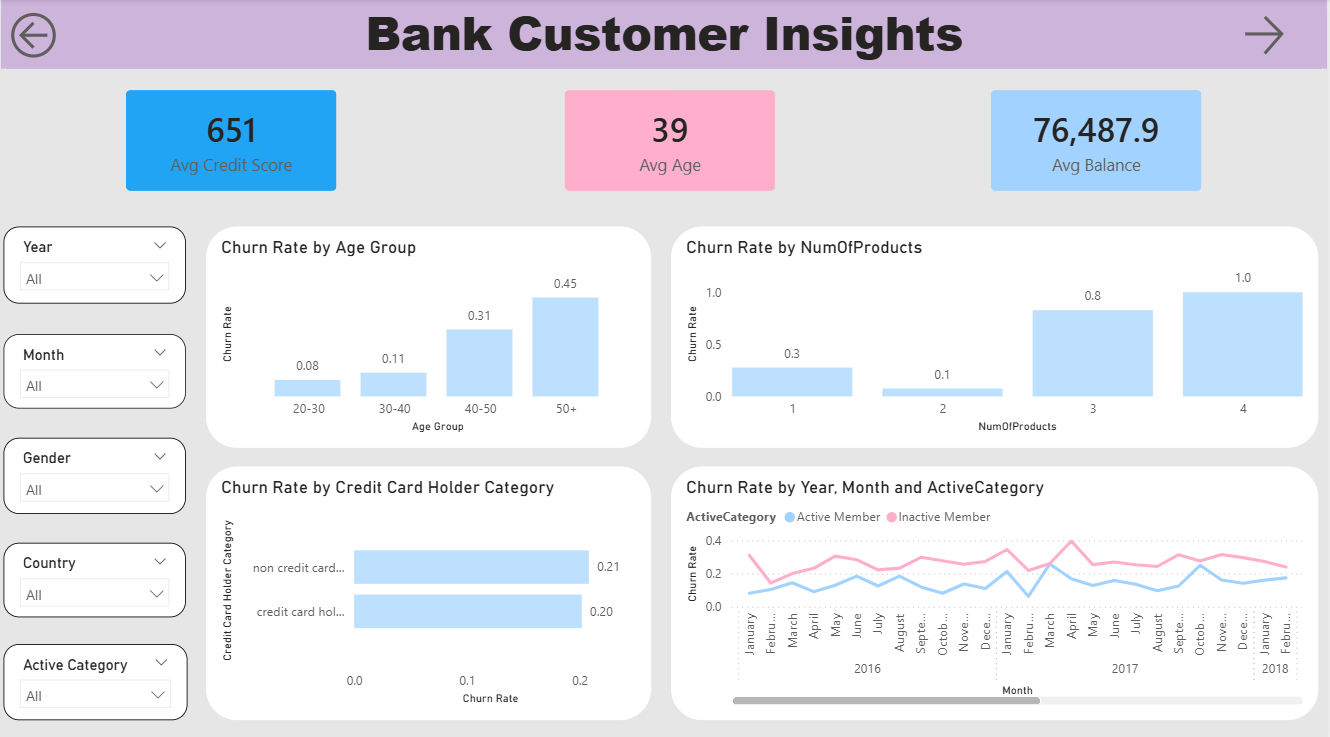

Layout of this report page (visuals, bound fields, positions):
{"tool":"powerbi","page":{"name":"Customer Segmentation","canvas":[1280,720],"ordinal":1},"visuals":[{"type":"textbox","title":"Bank Customer Insights","box":[0,0,1280.3,70.9],"z":0},{"type":"clusteredBarChart","fields":{"Category":["CreditCard.Category"],"Y":["Bank_Churn.Churn Rate"]},"box":[197.9,451.2,429.5,244.9],"z":1000},{"type":"slicer","fields":{"Values":["Bank_Churn.Bank DOJ.Variation.Date Hierarchy.Year"]},"box":[2.4,219.6,176.1,74.8],"z":2000},{"type":"slicer","fields":{"Values":["Bank_Churn.Bank DOJ.Variation.Date Hierarchy.Month"]},"box":[2.4,323.3,176.1,72.4],"z":3000},{"type":"slicer","fields":{"Values":["ActiveCustomer.ActiveCategory"]},"box":[2.4,622.5,177.3,73.6],"z":4000},{"type":"slicer","fields":{"Values":["Gender.GenderCategory"]},"box":[2.4,423.5,176.1,73.6],"z":5000},{"type":"slicer","fields":{"Values":["Geography.GeographyLocation"]},"box":[2.4,524.8,176.1,72.4],"z":6000},{"type":"clusteredColumnChart","fields":{"Category":["Bank_Churn.Age Group"],"Y":["Bank_Churn.Churn Rate"]},"box":[197.9,219.6,429.5,213.5],"z":7000},{"type":"clusteredColumnChart","fields":{"Category":["Bank_Churn.NumOfProducts"],"Y":["Bank_Churn.Churn Rate"]},"box":[646.7,219.6,624.9,213.5],"z":8000},{"type":"lineChart","fields":{"Y":["Bank_Churn.Churn Rate"],"Series":["ActiveCustomer.ActiveCategory"],"Category":["Bank_Churn.Bank DOJ.Variation.Date Hierarchy.Year","Bank_Churn.Bank DOJ.Variation.Date Hierarchy.Month"]},"box":[646.7,451.2,624.9,244.9],"z":9000},{"type":"cardVisual","fields":{"Data":["Bank_Churn.Avg Balance"]},"box":[938.6,71.2,237.7,131.5],"z":10000},{"type":"cardVisual","fields":{"Data":["Bank_Churn.Avg Age"]},"box":[527.2,71.2,237.7,131.5],"z":11000},{"type":"cardVisual","fields":{"Data":["Bank_Churn.Avg Credit Score"]},"box":[103.8,71.2,237.7,131.5],"z":12000},{"type":"actionButton","box":[3.6,7.2,100.1,55.5],"z":13000},{"type":"actionButton","box":[1194.4,10.9,77.2,48.3],"z":14000}]}

Visuals, with their boxes in screenshot pixels (x1, y1, x2, y2), scaled from the page's 1280x720 canvas onto the 1330x737 screenshot:
"Bank Customer Insights" textbox: [0, 0, 1329, 73]
clusteredBarChart - CreditCard.Category x Bank_Churn.Churn Rate: [206, 462, 652, 713]
slicer - Bank_Churn.Bank DOJ.Variation.Date Hierarchy.Year: [2, 225, 185, 301]
slicer - Bank_Churn.Bank DOJ.Variation.Date Hierarchy.Month: [2, 331, 185, 405]
slicer - ActiveCustomer.ActiveCategory: [2, 637, 187, 713]
slicer - Gender.GenderCategory: [2, 433, 185, 509]
slicer - Geography.GeographyLocation: [2, 537, 185, 611]
clusteredColumnChart - Bank_Churn.Age Group x Bank_Churn.Churn Rate: [206, 225, 652, 443]
clusteredColumnChart - Bank_Churn.NumOfProducts x Bank_Churn.Churn Rate: [672, 225, 1321, 443]
lineChart - Bank_Churn.Churn Rate x ActiveCustomer.ActiveCategory: [672, 462, 1321, 713]
cardVisual - Bank_Churn.Avg Balance: [975, 73, 1222, 207]
cardVisual - Bank_Churn.Avg Age: [548, 73, 795, 207]
cardVisual - Bank_Churn.Avg Credit Score: [108, 73, 355, 207]
actionButton: [4, 7, 108, 64]
actionButton: [1241, 11, 1321, 61]
